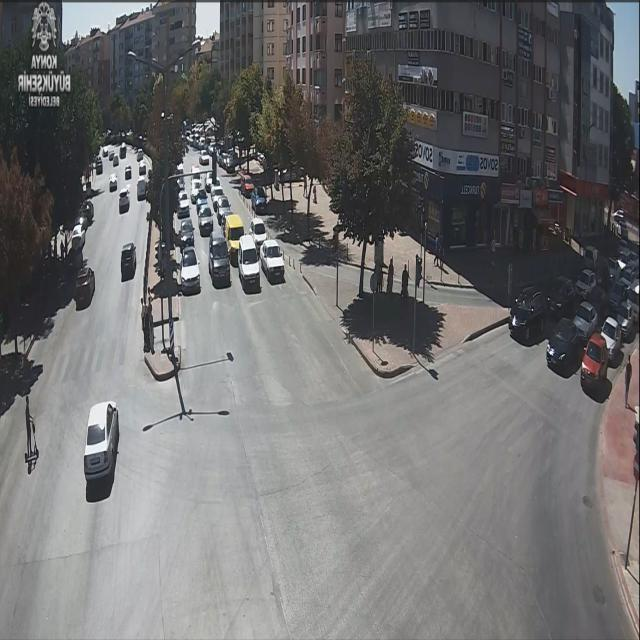Car: (83, 401, 119, 479), (508, 288, 550, 344), (546, 317, 582, 376), (580, 334, 609, 388), (207, 231, 232, 287), (236, 235, 261, 290), (544, 276, 579, 314), (598, 316, 624, 363), (571, 300, 600, 340), (259, 240, 285, 282), (179, 246, 201, 295), (611, 300, 636, 342), (74, 266, 96, 304), (574, 267, 598, 297), (248, 217, 268, 250), (119, 243, 137, 277), (215, 196, 234, 226), (178, 217, 196, 247), (198, 205, 215, 236), (70, 222, 87, 252), (251, 188, 267, 214), (210, 186, 230, 206), (239, 174, 255, 197), (190, 178, 204, 204), (204, 171, 222, 191), (195, 189, 210, 213), (177, 191, 190, 217), (118, 188, 130, 212), (613, 209, 626, 224), (198, 149, 210, 165), (108, 173, 118, 192), (138, 160, 147, 176), (124, 165, 133, 180), (96, 160, 103, 174), (136, 150, 144, 162), (102, 148, 109, 158)
Van: (222, 214, 248, 262), (136, 176, 146, 198)
